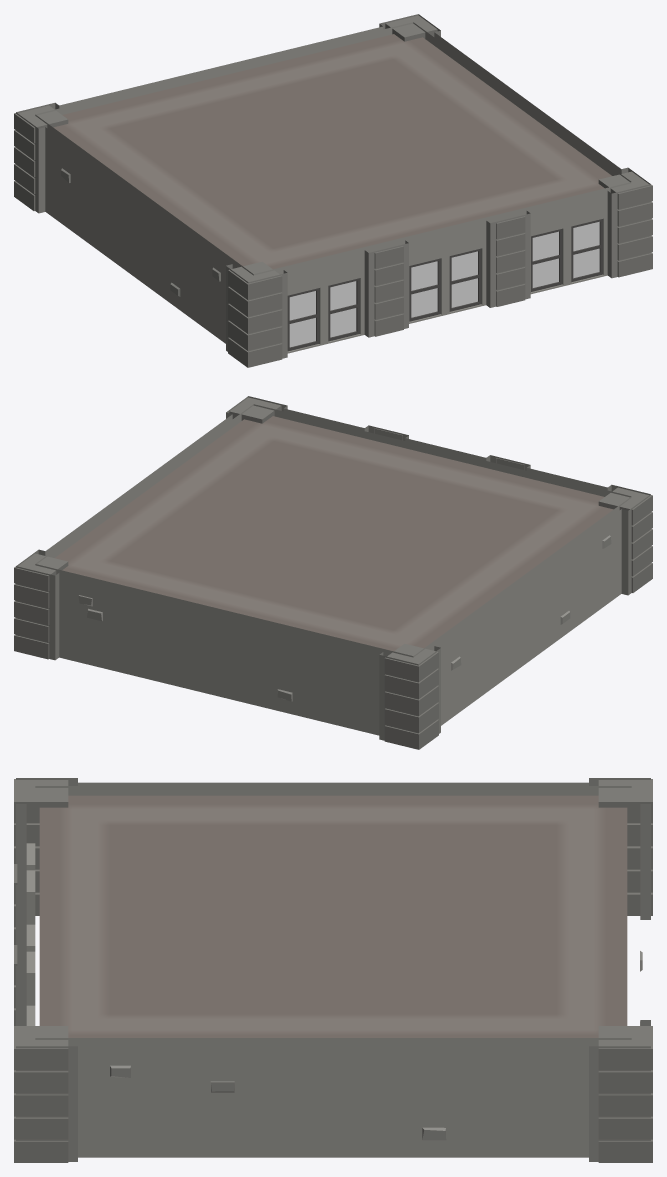
File: SM_Bldg_City_High-Rise_03_Top.fbx
The picture shows the model from 3 angles, top to bottom: view 1: azimuth 30°, elevation 25°; view 2: azimuth 150°, elevation 25°; view 3: azimuth 270°, elevation 25°; orthographic projection. The views are drawn at different scales.
Visible parts, largest first — view 1: SM_Bldg_City_High-Rise_03_Top, SM_Bldg_City_High-Rise_03_Top_Glass; view 2: SM_Bldg_City_High-Rise_03_Top; view 3: SM_Bldg_City_High-Rise_03_Top.
Boxes of the visible parts, left/top/right/bottom form: SM_Bldg_City_High-Rise_03_Top: left=14, top=14, right=652, bottom=367; SM_Bldg_City_High-Rise_03_Top_Glass: left=289, top=221, right=599, bottom=347; SM_Bldg_City_High-Rise_03_Top: left=14, top=396, right=652, bottom=749; SM_Bldg_City_High-Rise_03_Top: left=14, top=778, right=652, bottom=1162.
Bounding box in the file's own units: 1500 × 300 × 1500.
